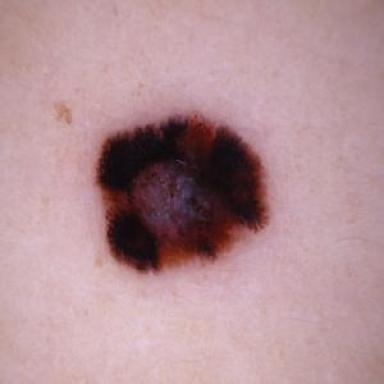Melanoma: (92, 113, 270, 275)
